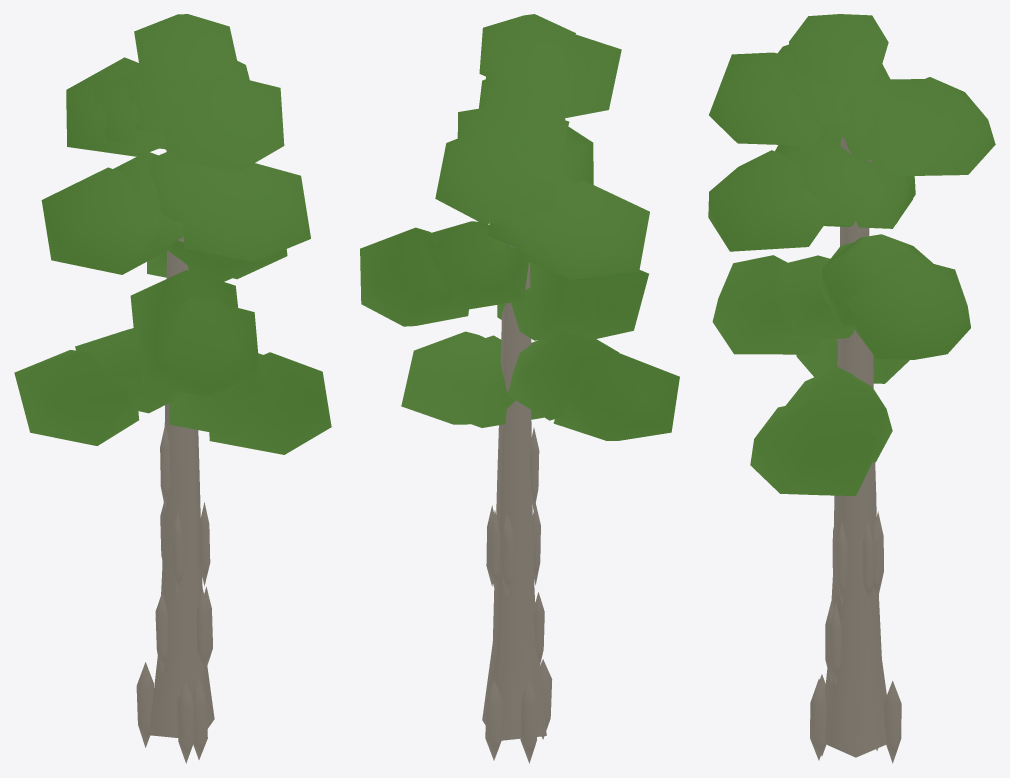
File: Blender_Shagbark_1_Far.glb
The picture shows the model from 3 angles, left to right: view 1: azimuth 30°, elevation 25°; view 2: azimuth 150°, elevation 25°; view 3: azimuth 270°, elevation 25°; orthographic projection. The views are drawn at different scales.
Parts seen in each view (by area): view 1: Blender_Shagbark_1_Far; view 2: Blender_Shagbark_1_Far; view 3: Blender_Shagbark_1_Far.
Boxes of the visible parts, x1,y1,x2,y2 form: Blender_Shagbark_1_Far: [14, 14, 331, 763]; Blender_Shagbark_1_Far: [360, 14, 679, 763]; Blender_Shagbark_1_Far: [708, 14, 995, 763].
Size of the model in its own units: 10.24 by 25.58 by 8.89.
